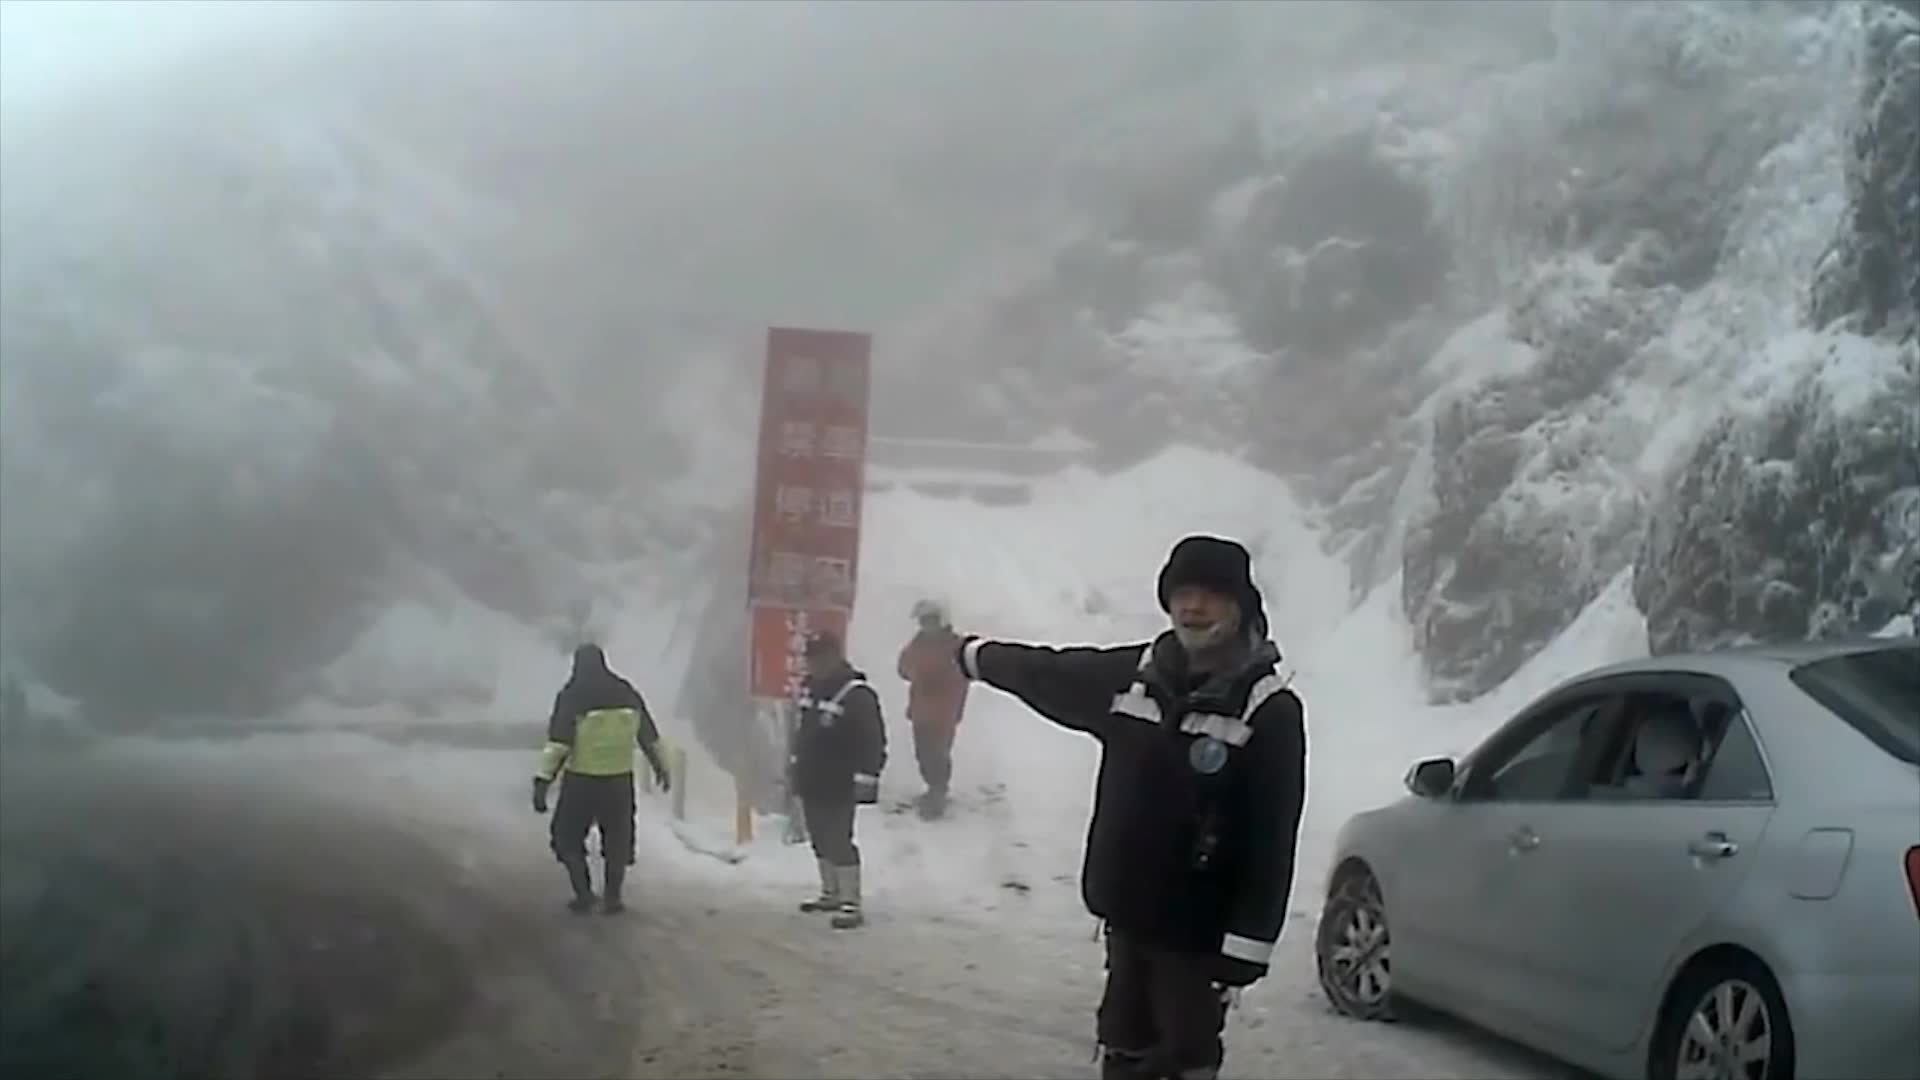pedestrian: (964, 534, 1316, 1080), (532, 649, 682, 918), (790, 630, 890, 932), (902, 597, 987, 822)
vehicle: (1321, 637, 1920, 1080)
